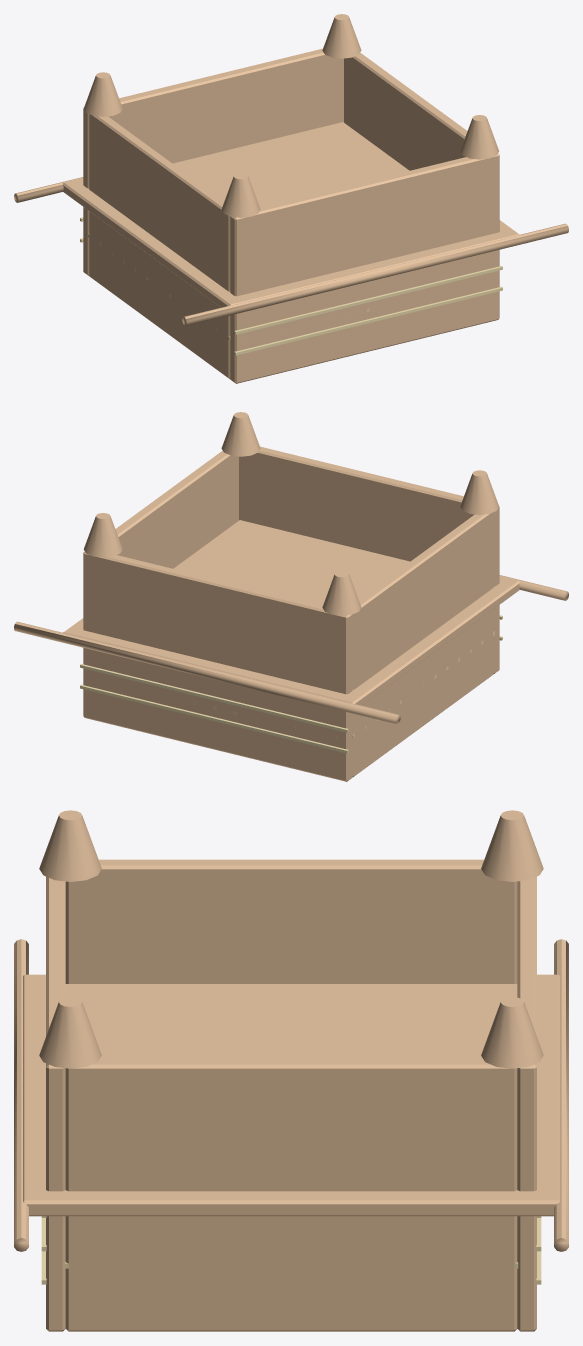
File: bronze-altar.glb
3 renders of one model, top to bottom at view 1: azimuth 30°, elevation 25°; view 2: azimuth 150°, elevation 25°; view 3: azimuth 270°, elevation 25°, orthographic. The views are drawn at different scales.
Visible parts, largest first — view 1: altar; view 2: altar; view 3: altar.
Boxes of the visible parts, <box> form: altar: <box>14,14,568,383</box>; altar: <box>14,412,568,781</box>; altar: <box>14,810,568,1331</box>.
Size of the model in its own units: 7.2 by 3.6 by 5.65.
